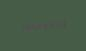eight: (23, 21, 28, 32), (47, 19, 52, 30)
five: (53, 19, 58, 29)
four: (41, 20, 46, 30)
nine: (59, 18, 64, 29)
one: (35, 20, 40, 31)
seven: (17, 22, 22, 32)
six: (29, 21, 34, 31)
